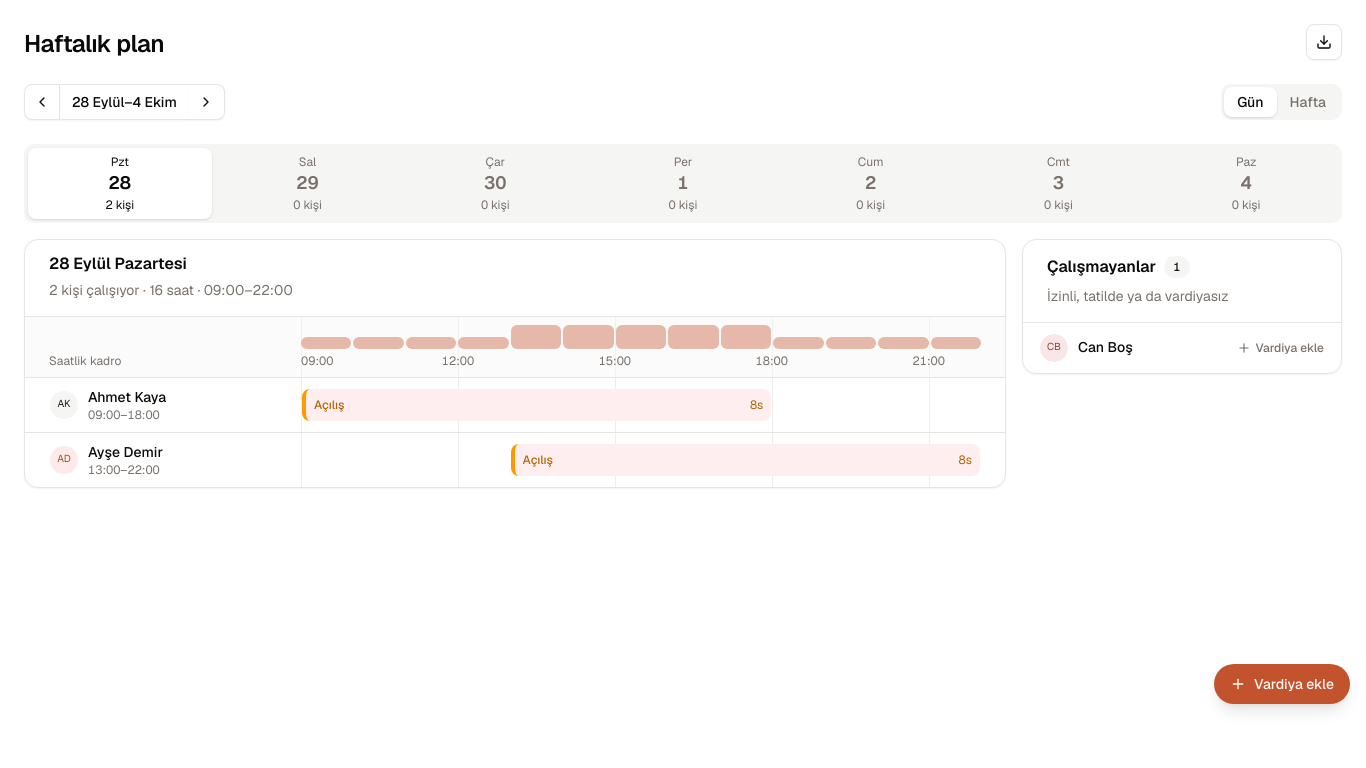
Test case: WeeklySchedulePage — mobil › "Hafta" seçilince gün sütunlu tablo gösterilir
Click the button "Hafta": (1308, 102) [1277, 87, 1339, 117]
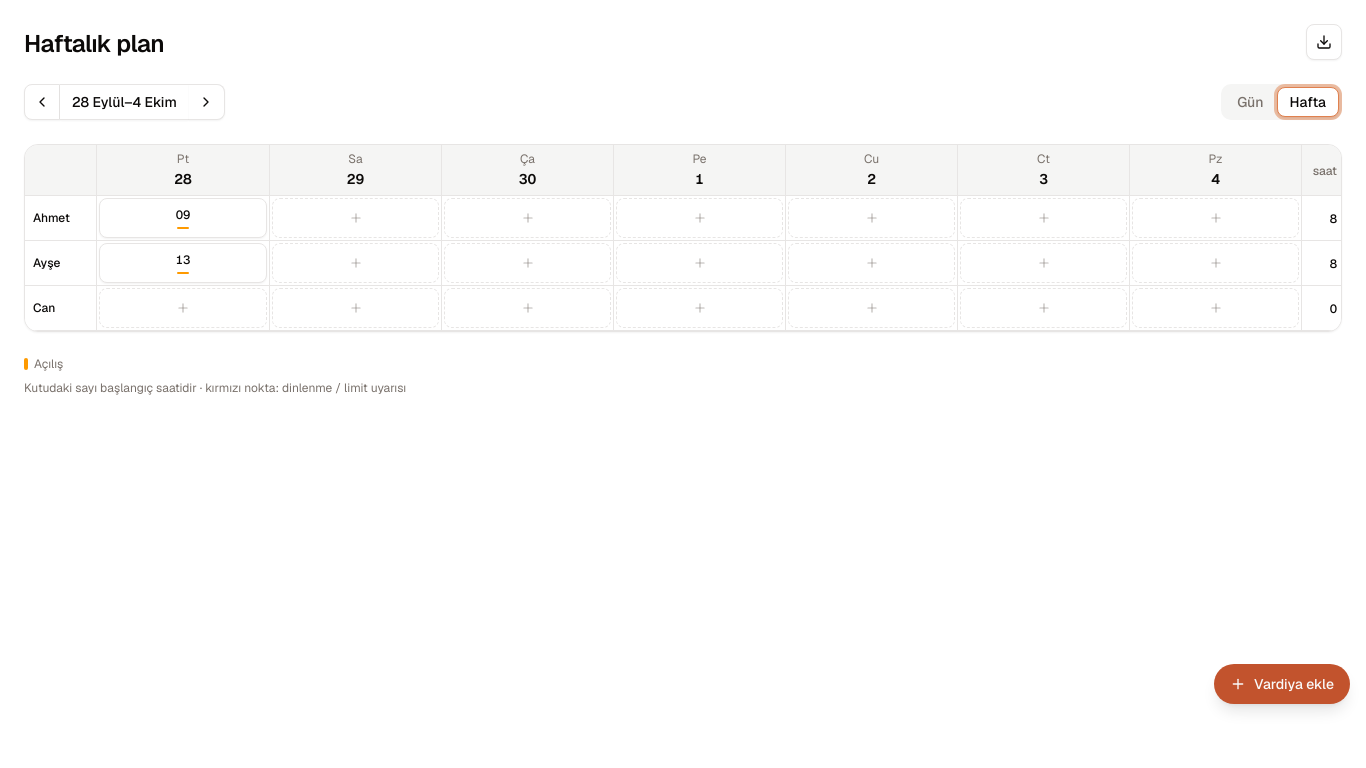
Expected: the text "saat" is shown, [1313, 163, 1337, 179]
Expected: the text "Pt" is shown, [177, 151, 189, 167]
